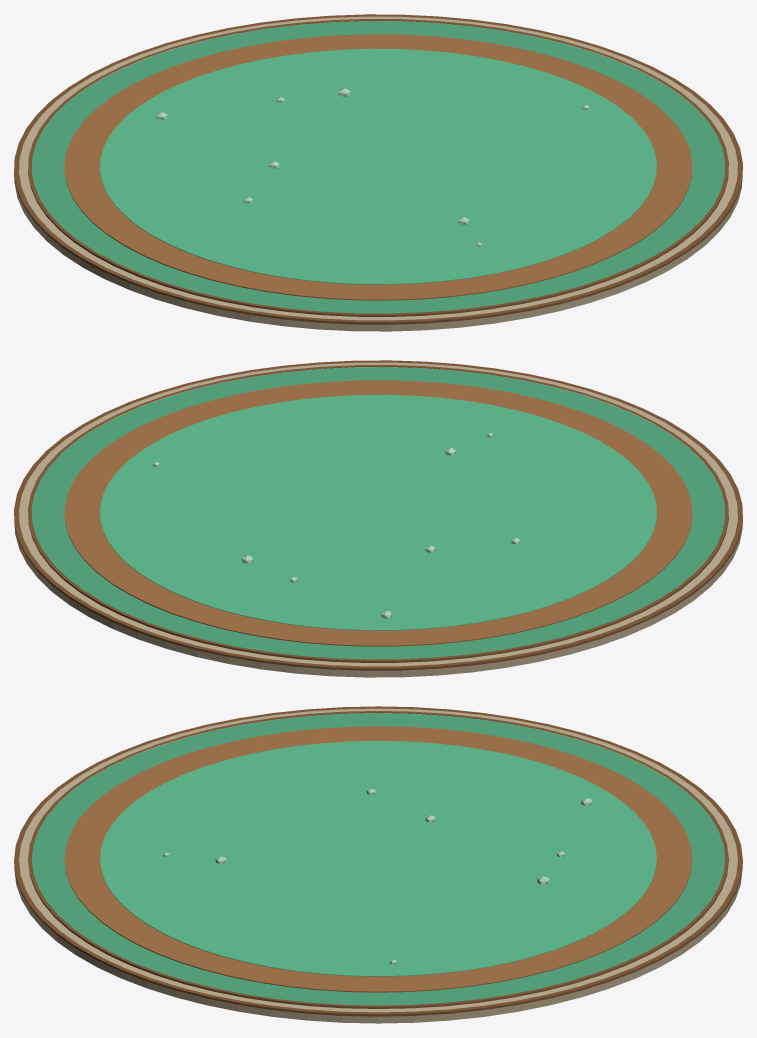
Rendered from goo_jar_foot.fbx.
3 renders of one model, top to bottom at view 1: azimuth 30°, elevation 25°; view 2: azimuth 150°, elevation 25°; view 3: azimuth 270°, elevation 25°, orthographic.
Visible parts, largest first — view 1: goo_jar_foot; view 2: goo_jar_foot; view 3: goo_jar_foot.
Part boxes in pixels (box(x1,y1,x2,y2)): goo_jar_foot: box(14, 14, 742, 331); goo_jar_foot: box(14, 360, 742, 677); goo_jar_foot: box(14, 706, 742, 1023).
Bounding box in the file's own units: 80.1 × 2.08 × 80.1.
